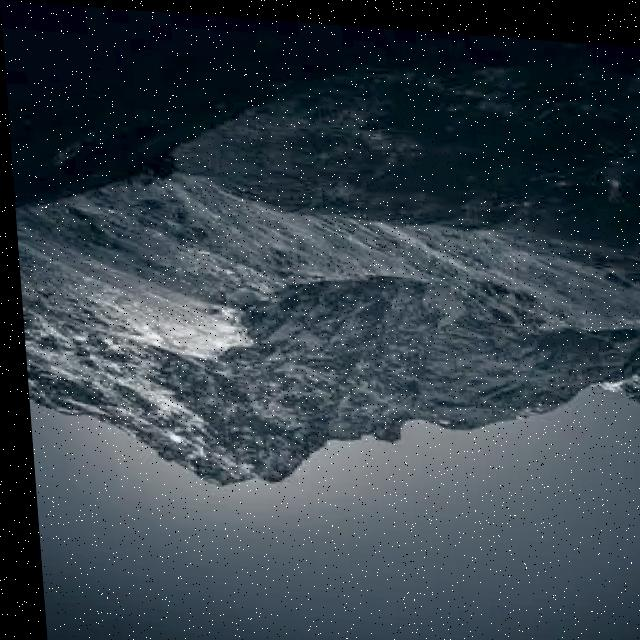Swinica: (41, 375, 458, 581)
